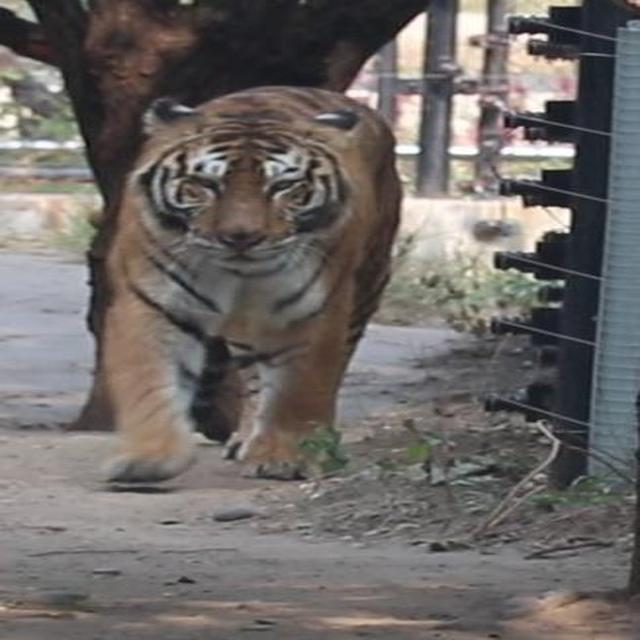tiger: (94, 83, 404, 483)
